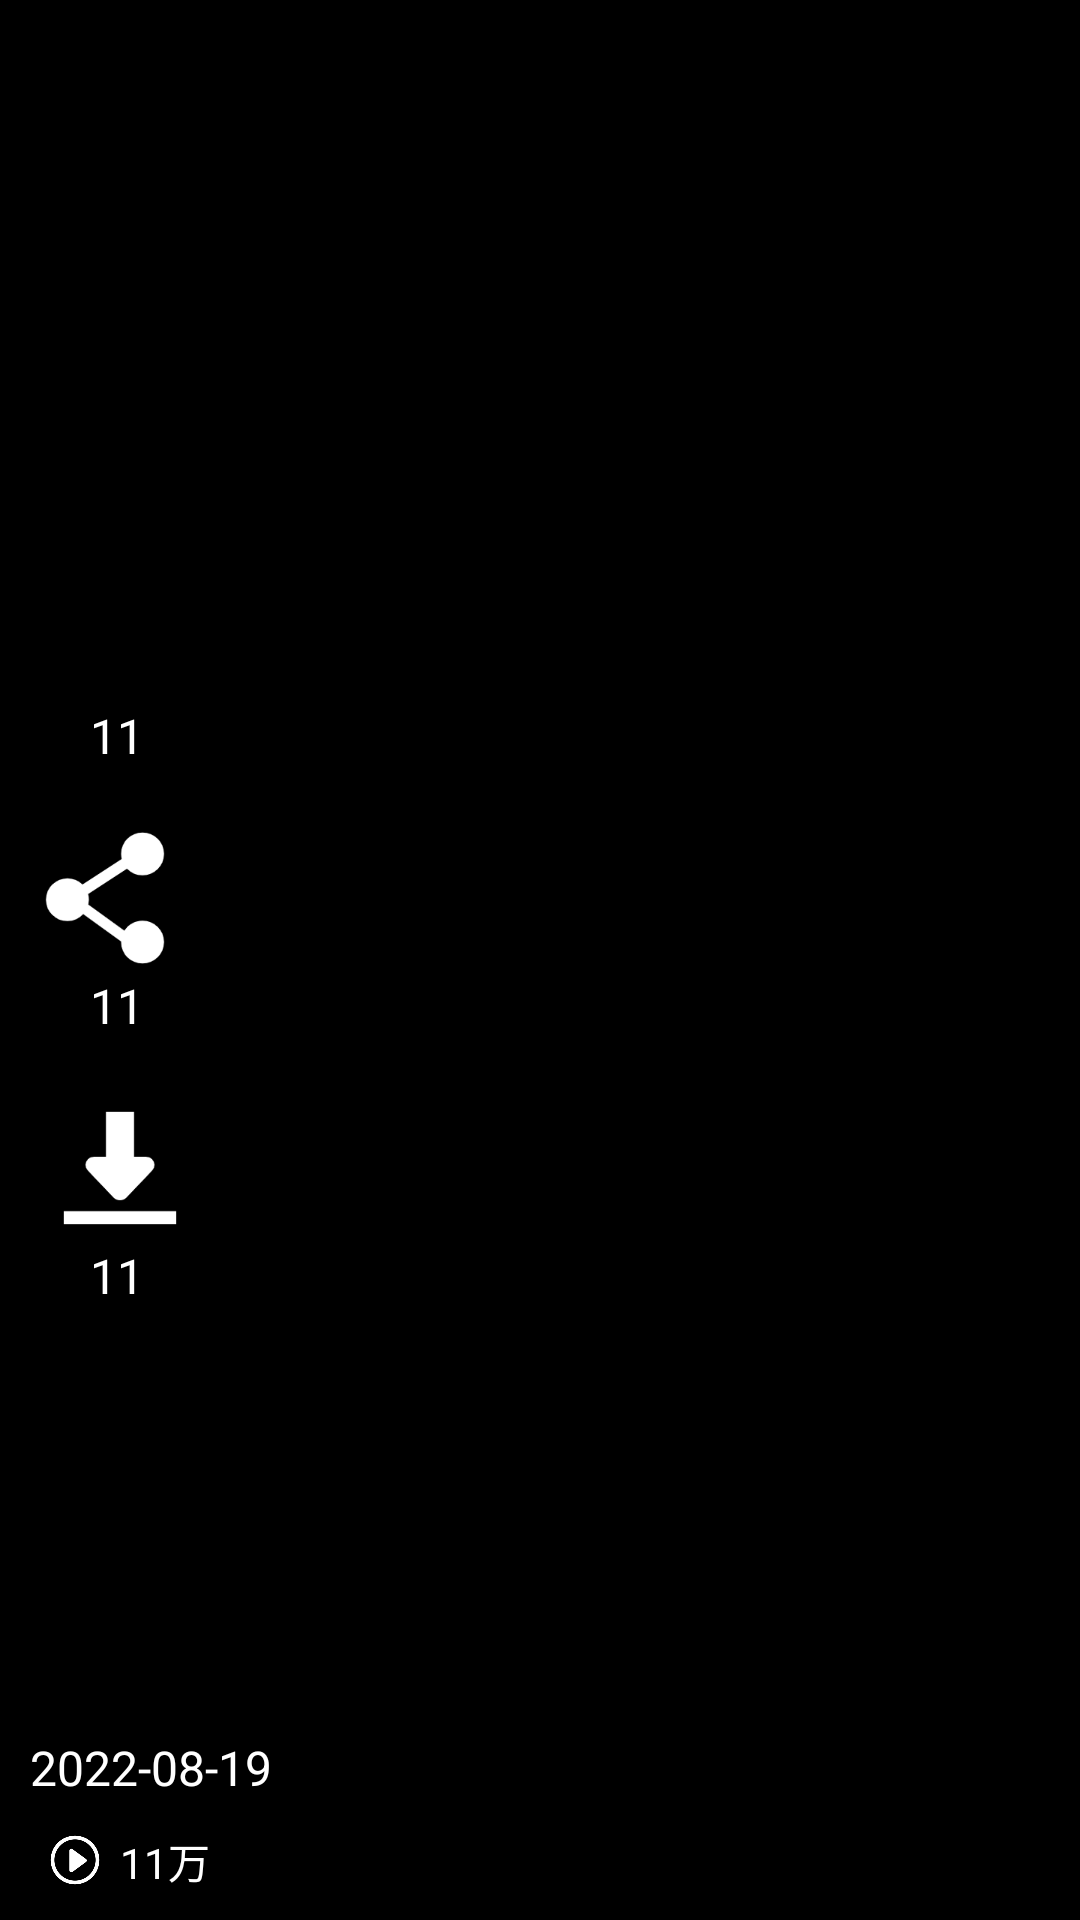

Icons on this 1080*1920 Android screen, each with its box as BBox(x1, y1, x2, y2):
download: BBox(63, 1111, 177, 1225)
play: BBox(50, 1835, 100, 1885)
share: BBox(45, 832, 165, 964)
